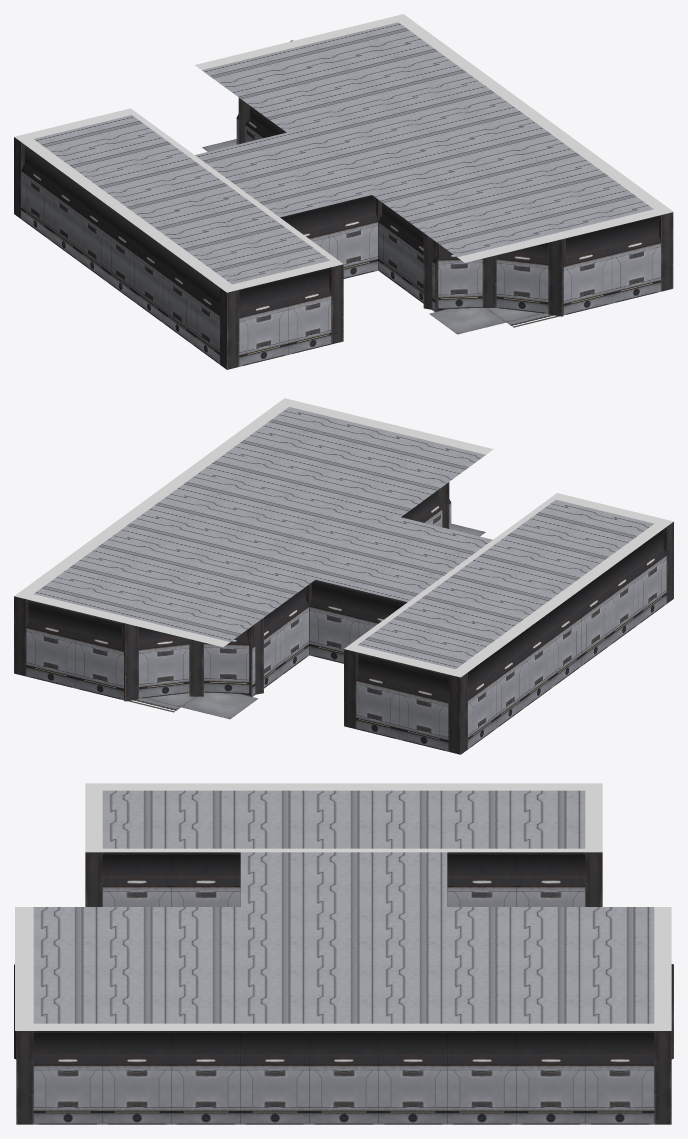
Rendered from SalaCobaias.fbx.
3 views of the same model, one above another, from view 1: azimuth 30°, elevation 25°; view 2: azimuth 150°, elevation 25°; view 3: azimuth 270°, elevation 25° (orthographic). The views are drawn at different scales.
Visible parts, largest first — view 1: ROOM_ROOF.058, ROOM_ROOF.057, ROOM_WALL.064, ROOM_WALL.071, ROOM_WALL.072, ROOM_WALL.083, ROOM_WALL.066, ROOM_WALL.058, ROOM_WALL.062, ROOM_WALL.061, ROOM_WALL.139, ROOM_WALL.138 (+72 smaller); view 2: ROOM_ROOF.058, ROOM_ROOF.057, ROOM_WALL.150, ROOM_WALL.143, ROOM_WALL.151, ROOM_WALL.162, ROOM_WALL.145, ROOM_WALL.137, ROOM_WALL.141, ROOM_WALL.139, ROOM_WALL.140, ROOM_WALL.060 (+72 smaller); view 3: ROOM_ROOF.058, ROOM_ROOF.057, ROOM_WALL.002, ROOM_WALL.068, ROOM_WALL.069, ROOM_WALL.070, ROOM_WALL.099, ROOM_WALL.147, ROOM_WALL.148, ROOM_WALL.149, ROOM_WALL.177, ROOM_WALL.075 (+65 smaller).
Boxes of the visible parts, box(x1,y1,x2,y2) form: ROOM_ROOF.058: box(195, 14, 673, 262); ROOM_ROOF.057: box(14, 108, 343, 292); ROOM_WALL.064: box(239, 280, 288, 366); ROOM_WALL.071: box(610, 216, 660, 303); ROOM_WALL.072: box(563, 228, 611, 315); ROOM_WALL.083: box(327, 196, 378, 278); ROOM_WALL.066: box(286, 269, 337, 354); ROOM_WALL.058: box(496, 243, 548, 313); ROOM_WALL.062: box(438, 245, 482, 309); ROOM_WALL.061: box(134, 228, 166, 322); ROOM_WALL.139: box(49, 166, 81, 260); ROOM_WALL.138: box(21, 145, 52, 239); ROOM_ROOF.058: box(14, 398, 493, 646); ROOM_ROOF.057: box(344, 493, 673, 677); ROOM_WALL.150: box(26, 601, 77, 688); ROOM_WALL.143: box(399, 664, 448, 751); ROOM_WALL.151: box(75, 613, 126, 700); ROOM_WALL.162: box(309, 581, 360, 663); ROOM_WALL.145: box(350, 654, 401, 739); ROOM_WALL.137: box(139, 627, 189, 698); ROOM_WALL.141: box(204, 630, 249, 693); ROOM_WALL.139: box(492, 634, 524, 728); ROOM_WALL.140: box(521, 613, 553, 707); ROOM_WALL.060: box(606, 550, 638, 644); ROOM_ROOF.058: box(15, 907, 671, 1030); ROOM_ROOF.057: box(85, 783, 602, 852); ROOM_WALL.002: box(240, 1033, 309, 1124); ROOM_WALL.068: box(171, 1033, 240, 1124); ROOM_WALL.069: box(102, 1033, 171, 1124); ROOM_WALL.070: box(33, 1033, 102, 1124); ROOM_WALL.099: box(378, 1033, 447, 1124); ROOM_WALL.147: box(447, 1033, 516, 1124); ROOM_WALL.148: box(516, 1033, 585, 1124); ROOM_WALL.149: box(585, 1033, 654, 1124); ROOM_WALL.177: box(309, 1033, 378, 1124); ROOM_WALL.075: box(171, 854, 240, 906).
Size of the model in its own units: 33.99 by 6 by 38.27.
Materials: 1 (1 with a texture image).
